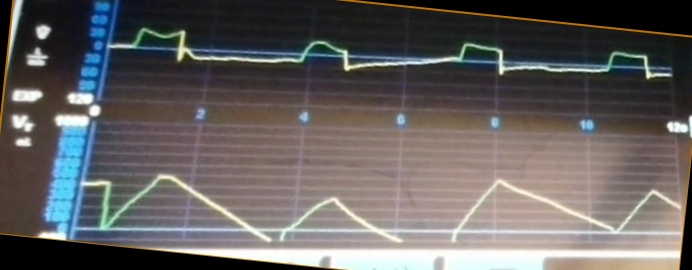Premature_cycling Flow: (111, 23, 671, 101)
Premature_cycling Volume: (88, 157, 680, 242)
